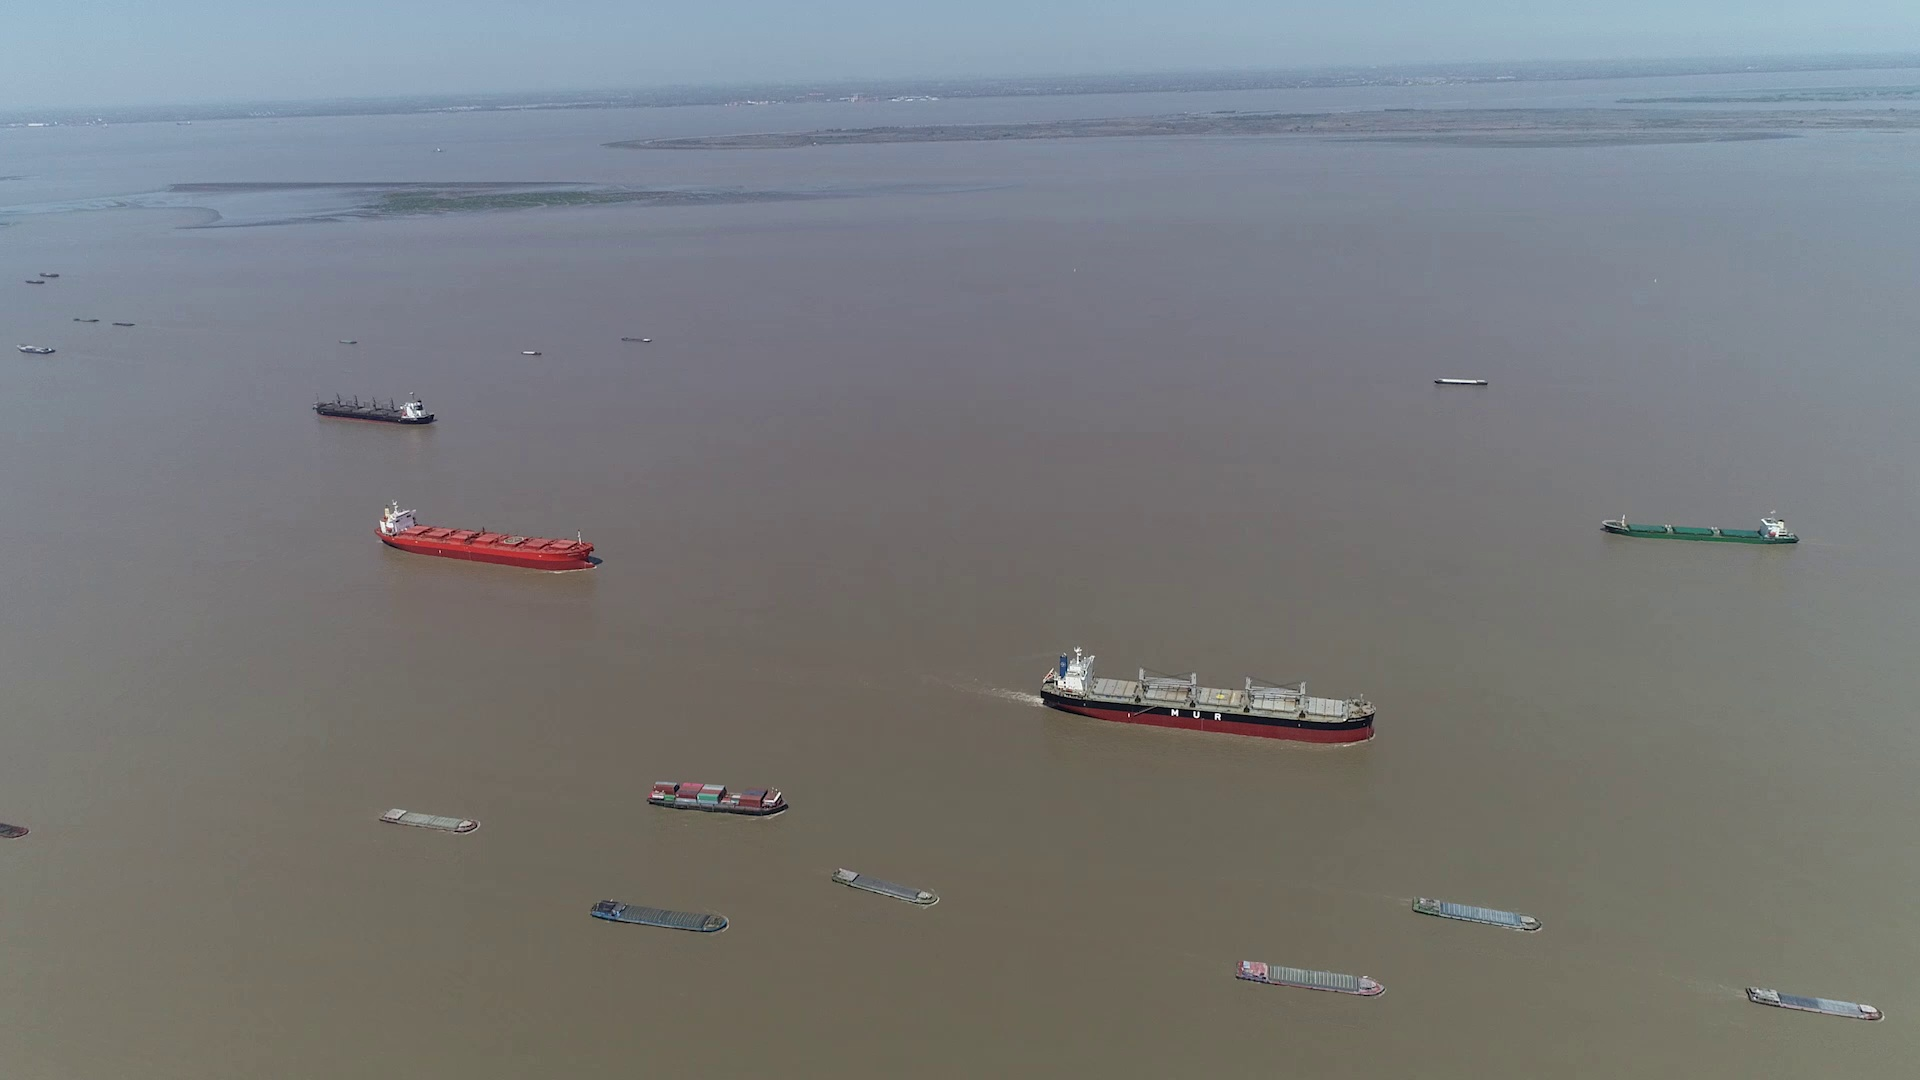ship: (1042, 647, 1375, 742), (376, 501, 595, 570), (1605, 512, 1800, 545), (1236, 959, 1382, 996), (647, 782, 791, 818), (1743, 985, 1882, 1021), (591, 899, 731, 934), (1415, 895, 1544, 931), (829, 866, 940, 907), (314, 392, 436, 425), (378, 804, 479, 831), (0, 819, 26, 841), (1433, 377, 1487, 386), (18, 342, 54, 353), (517, 349, 541, 357)
